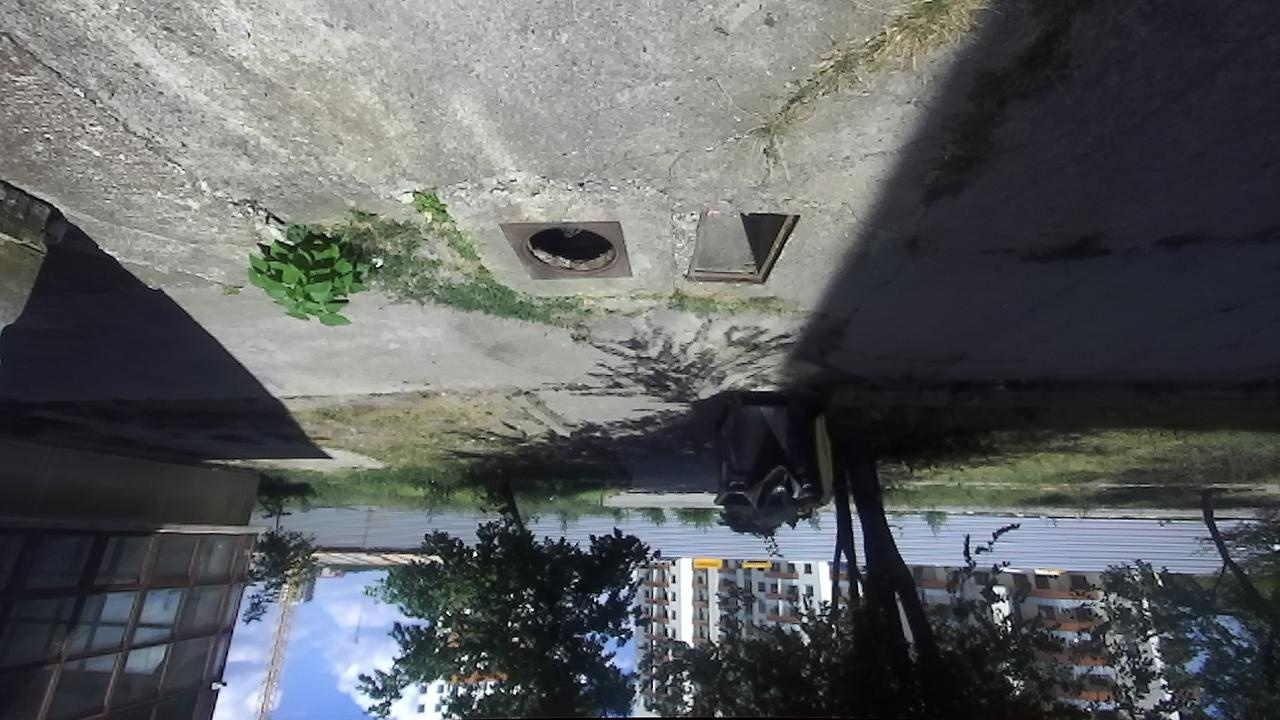drain: (680, 206, 805, 290), (512, 224, 621, 277)
